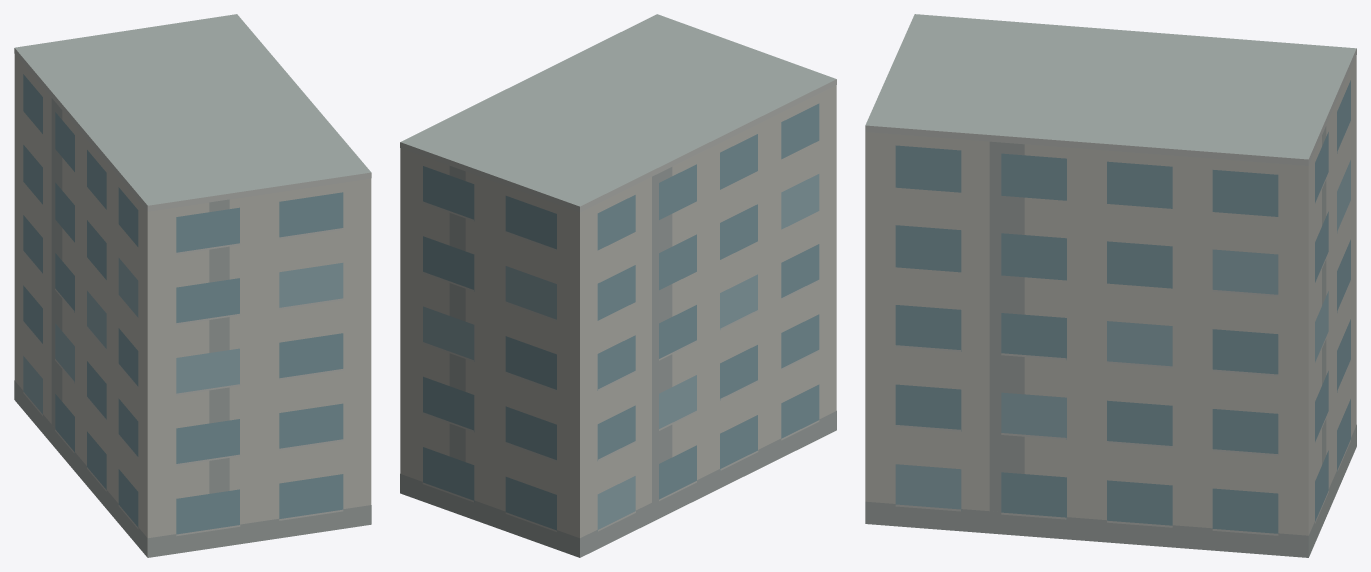
The model's file is survey-upis-32885097.glb.
The picture shows the model from 3 angles, left to right: view 1: azimuth 30°, elevation 25°; view 2: azimuth 150°, elevation 25°; view 3: azimuth 270°, elevation 25°; orthographic projection. The views are drawn at different scales.
Visible parts, largest first — view 1: survey-upis-32885097.tmp; view 2: survey-upis-32885097.tmp; view 3: survey-upis-32885097.tmp.
Boxes of the visible parts, x1,y1,x2,y2 form: survey-upis-32885097.tmp: (14, 14, 371, 557); survey-upis-32885097.tmp: (400, 14, 836, 557); survey-upis-32885097.tmp: (865, 14, 1356, 557).
Bounding box in the file's own units: 11.52 × 14.7 × 16.44.
